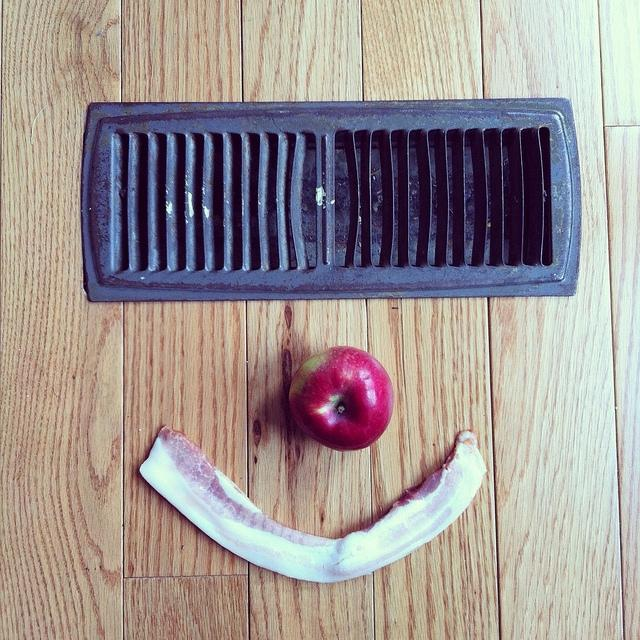apple: (289, 346, 394, 452)
